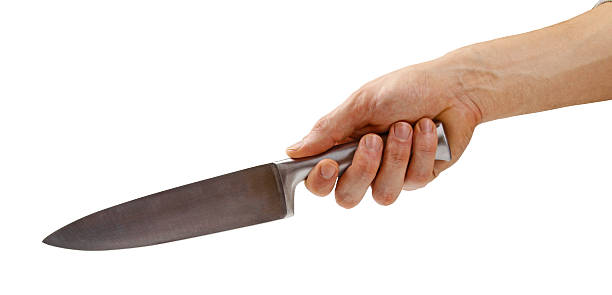knife: (38, 121, 452, 252)
